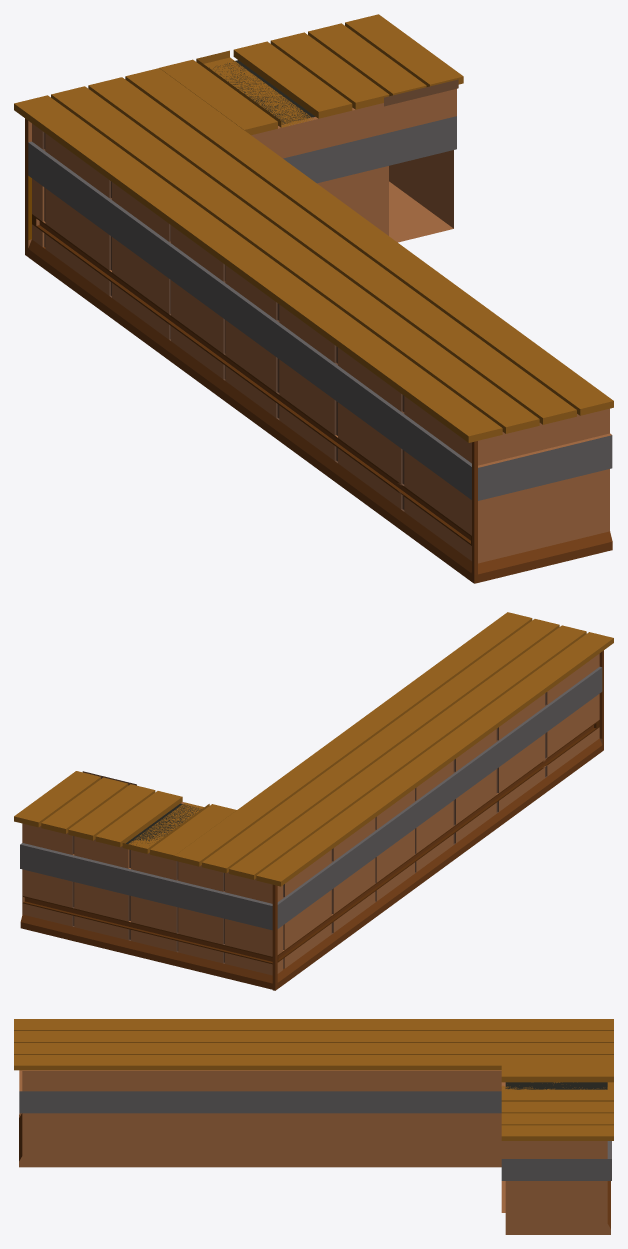
The model's file is Barstoy.fbx.
3 renders of one model, top to bottom at view 1: azimuth 30°, elevation 25°; view 2: azimuth 150°, elevation 25°; view 3: azimuth 270°, elevation 25°, orthographic. The views are drawn at different scales.
Visible parts, largest first — view 1: Bar; view 2: Bar; view 3: Bar.
Boxes of the visible parts, x1=… form: Bar: x1=14, y1=14, x2=613, y2=583; Bar: x1=14, y1=612, x2=613, y2=990; Bar: x1=14, y1=1019, x2=613, y2=1234.
Size of the model in its own units: 705 by 282 by 1522.
